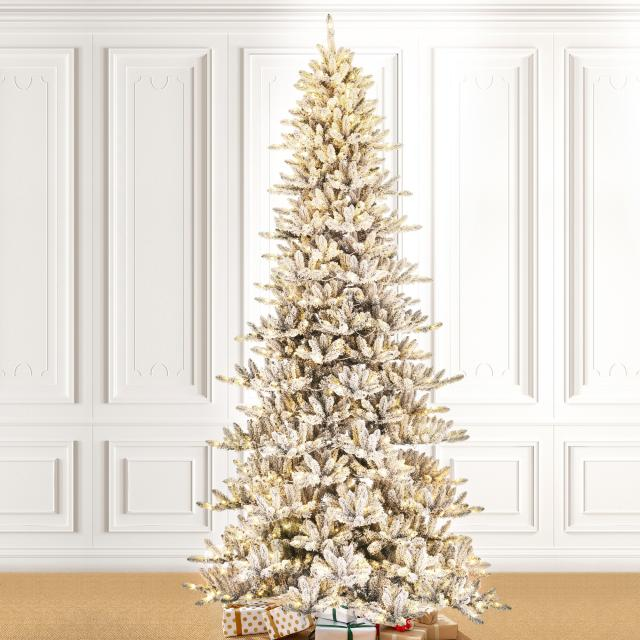Christmas-tree: (203, 19, 504, 618)
